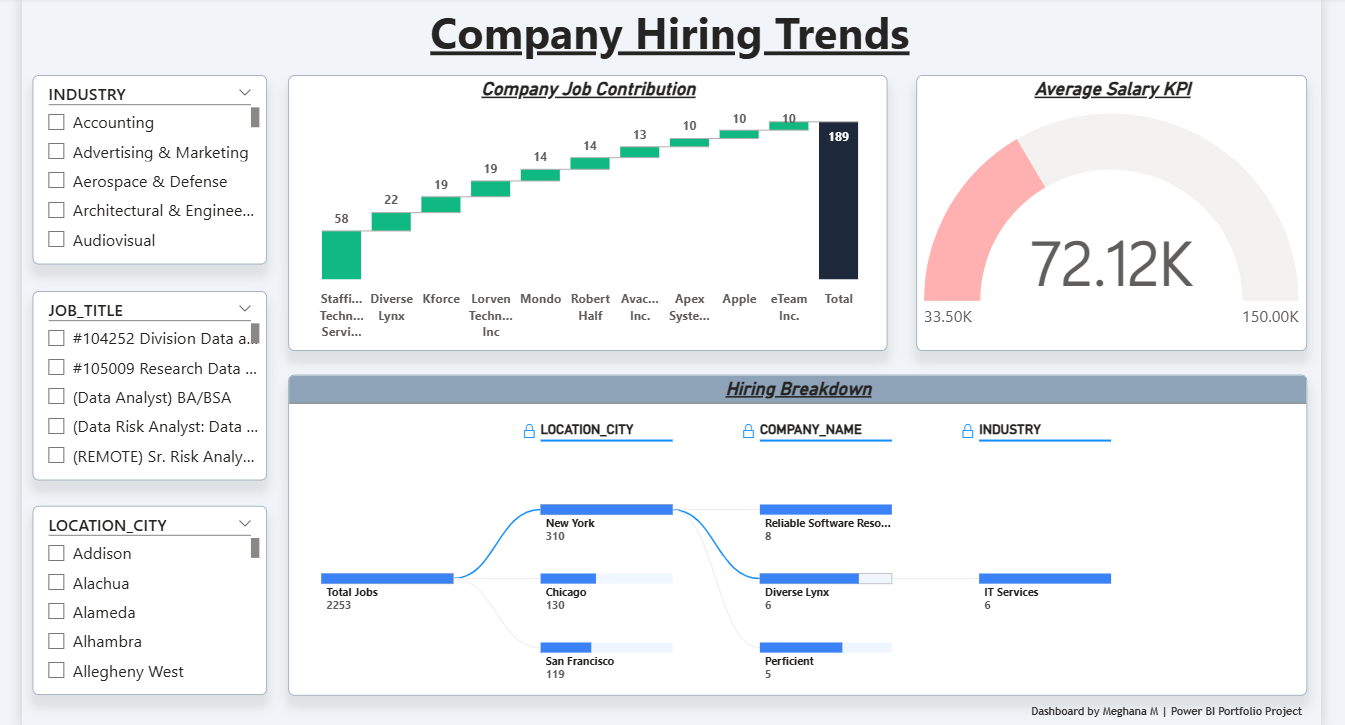

Layout of this report page (visuals, bound fields, positions):
{"tool":"powerbi","page":{"name":"Company Hiring Trends","canvas":[1280,720],"ordinal":3},"visuals":[{"type":"textbox","box":[10.4,0,1255.7,77],"z":0},{"type":"slicer","fields":{"Values":["DATA_ANALYST_JOBS.INDUSTRY"]},"box":[10.4,77,231,186.7],"z":1000},{"type":"slicer","fields":{"Values":["DATA_ANALYST_JOBS.LOCATION_CITY"]},"box":[10.4,501.2,231,186.7],"z":2000},{"type":"slicer","fields":{"Values":["DATA_ANALYST_JOBS.JOB_TITLE"]},"box":[10.4,289.8,231,186.7],"z":3000},{"type":"waterfallChart","title":"Company Job Contribution","fields":{"Category":["DATA_ANALYST_JOBS.COMPANY_NAME_CLEAN"],"Y":["measures Table 4.Jobs Per Company"]},"box":[262.4,77,590,271.5],"z":4000},{"type":"gauge","title":"Average Salary KPI","fields":{"Y":["Measures Table 1.Average Salary"],"MinValue":["Measures Table 2.Min Salary"],"MaxValue":["Measures Table 2.Max Salary"]},"box":[881.1,77,385.1,271.5],"z":5000},{"type":"textbox","box":[881.1,687.9,385.1,32.6],"z":6000},{"type":"decompositionTreeVisual","title":"Hiring Breakdown","fields":{"Analyze":["Measures Table 1.Total Jobs"],"ExplainBy":["DATA_ANALYST_JOBS.LOCATION_CITY","DATA_ANALYST_JOBS.COMPANY_NAME_CLEAN","DATA_ANALYST_JOBS.INDUSTRY"]},"box":[262.4,372,1003.8,315.9],"z":7000}]}

Visuals, with their boxes on the page's 1280x720 design canvas (x1, y1, x2, y2). These are canvas units, not pixel positions in the 1345x725 screenshot, which may show the page scaled, cropped or inside an application window:
textbox: rect(10, 0, 1266, 77)
slicer - DATA_ANALYST_JOBS.INDUSTRY: rect(10, 77, 241, 264)
slicer - DATA_ANALYST_JOBS.LOCATION_CITY: rect(10, 501, 241, 688)
slicer - DATA_ANALYST_JOBS.JOB_TITLE: rect(10, 290, 241, 476)
"Company Job Contribution" waterfallChart: rect(262, 77, 852, 348)
"Average Salary KPI" gauge: rect(881, 77, 1266, 348)
textbox: rect(881, 688, 1266, 720)
"Hiring Breakdown" decompositionTreeVisual: rect(262, 372, 1266, 688)
